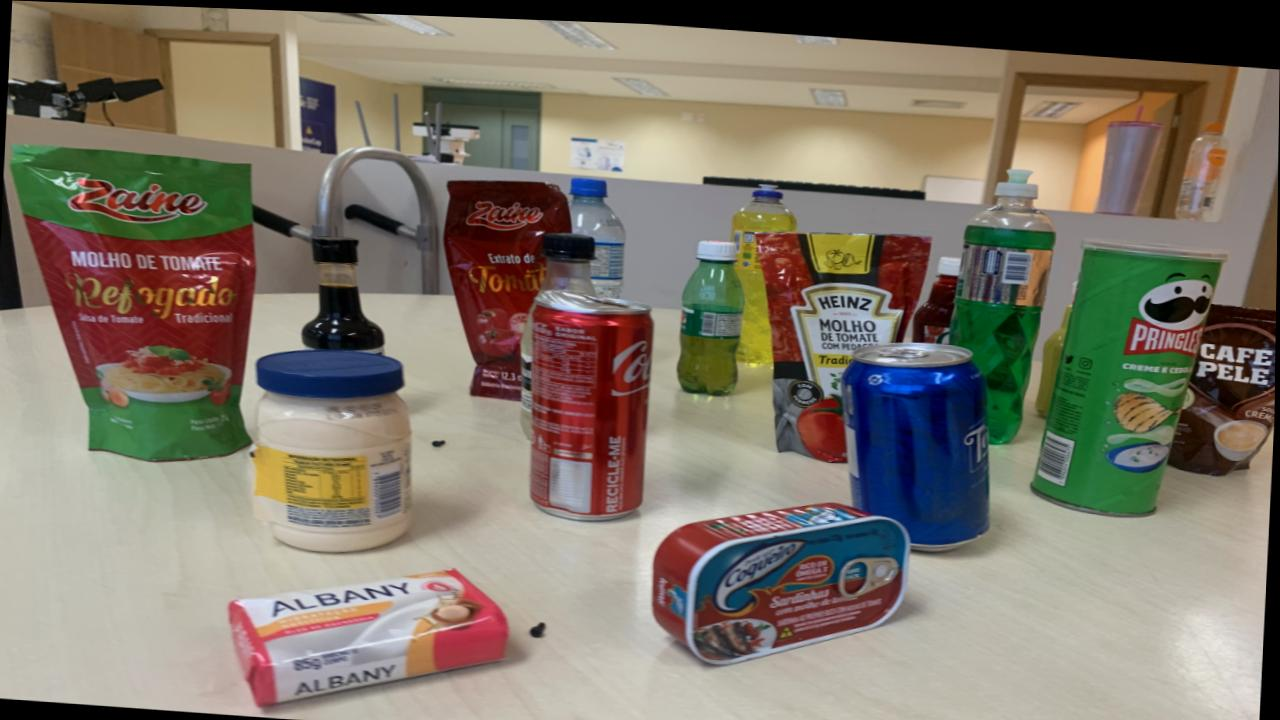Coffee-Pantry_Items: (1171, 296, 1277, 465)
Coke-Drinks: (531, 287, 654, 514)
Detergent-Cleanup_Items: (951, 161, 1056, 436), (731, 178, 799, 359)
English_Sauce-Pantry_Items: (302, 232, 385, 351)
Guarana-Drinks: (679, 235, 745, 390)
Ketchup-Pantry_Items: (913, 250, 962, 336)
Mayonnaise-Pantry_Items: (252, 347, 413, 550)
Pringles-Snacks: (1032, 231, 1228, 508)
Soap-Cleanup_Items: (231, 567, 509, 704)
Tomato_Sauce-Pantry_Items: (12, 145, 256, 459), (757, 226, 931, 456), (444, 176, 573, 397)
Tonic-Drinks: (843, 335, 992, 544)
Tuna_Can-Pantry_Items: (654, 496, 912, 659)
Water_Bottle-Drinks: (571, 172, 628, 293)
